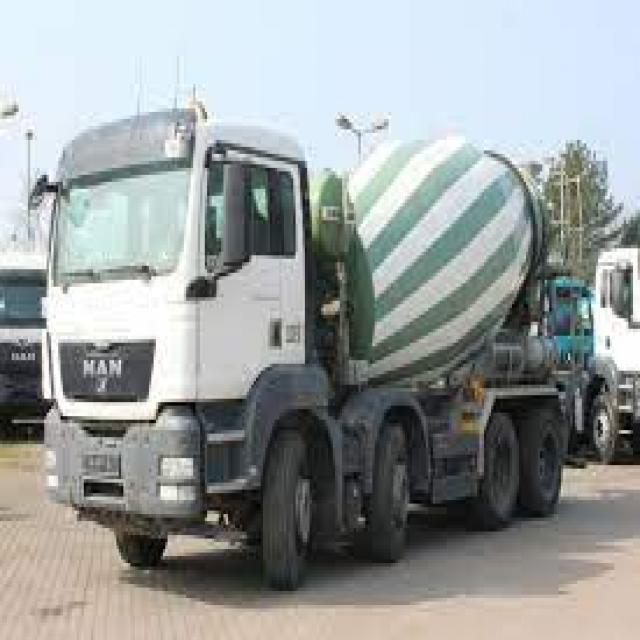Mixer Truck: (26, 95, 585, 587), (534, 239, 640, 464), (0, 244, 61, 440)
